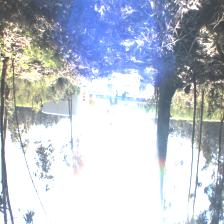trunktrack_idkeyframe: (155, 89, 181, 157), (0, 58, 9, 186)
